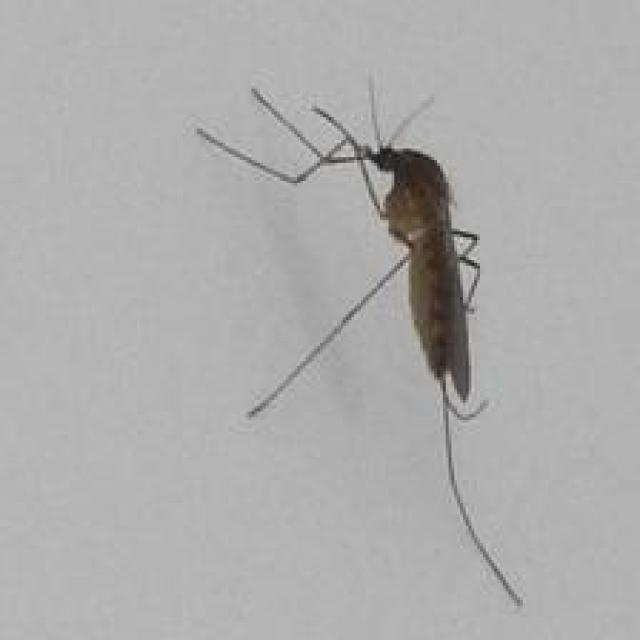Culex: (194, 73, 526, 607)
